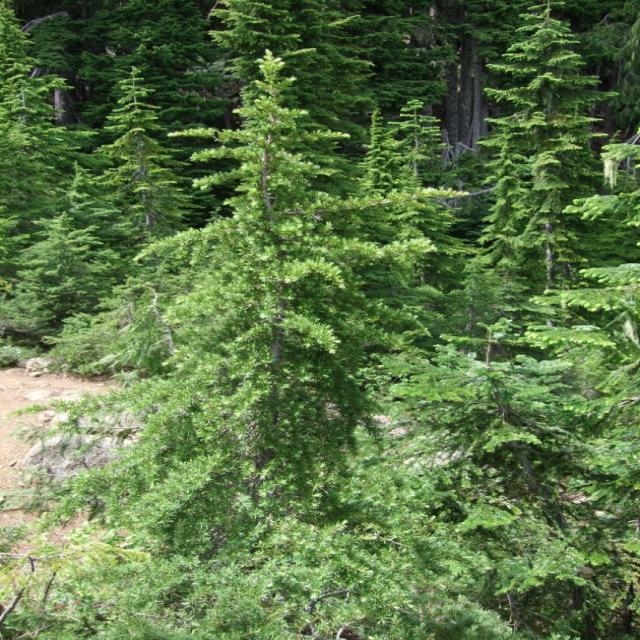Tsuga mertensiana: (10, 44, 520, 640)
